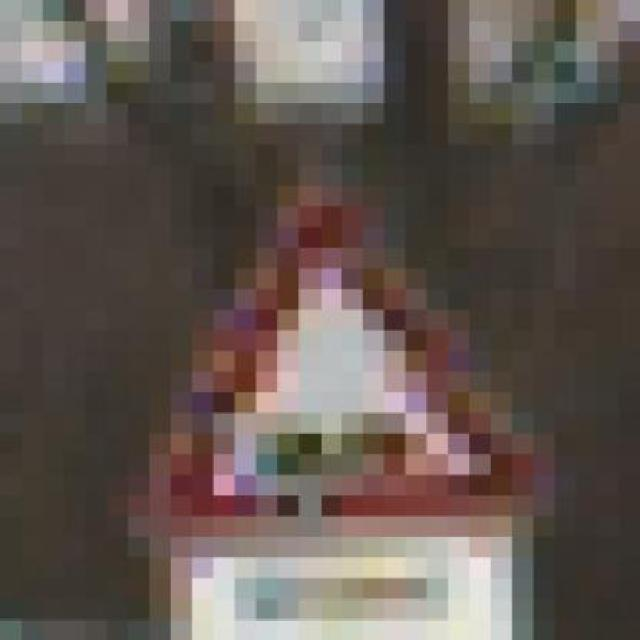Uneven Road: (86, 186, 554, 537)
